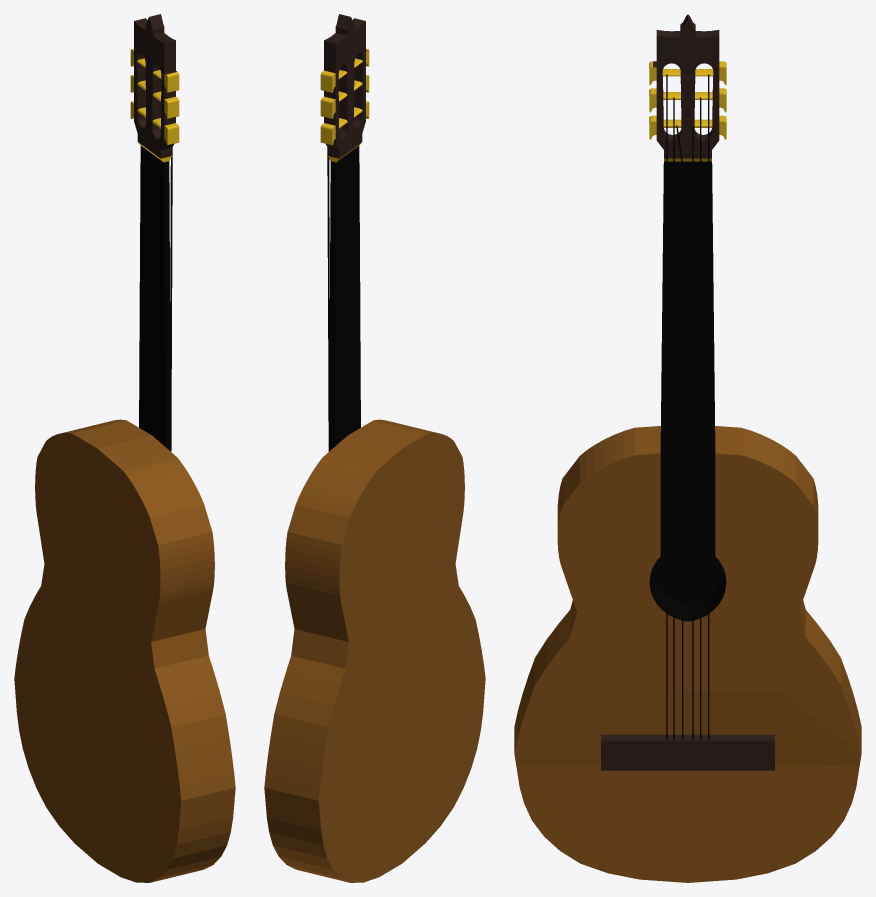
Rendered from guitar.fbx.
The picture shows the model from 3 angles, left to right: view 1: azimuth 30°, elevation 25°; view 2: azimuth 150°, elevation 25°; view 3: azimuth 270°, elevation 25°; orthographic projection. The views are drawn at different scales.
Parts seen in each view (by area): view 1: Guitar; view 2: Guitar; view 3: Guitar.
Boxes of the visible parts, box(x1,y1,x2,y2) form: Guitar: box(14, 14, 235, 882); Guitar: box(264, 14, 485, 882); Guitar: box(514, 14, 861, 882).
Size of the model in its own units: 39.1 by 482 by 175.
